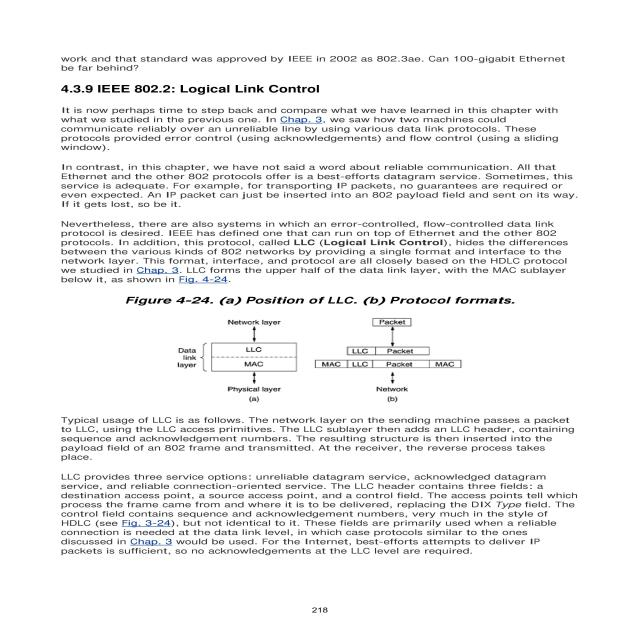diagram: (68, 290, 531, 410)
